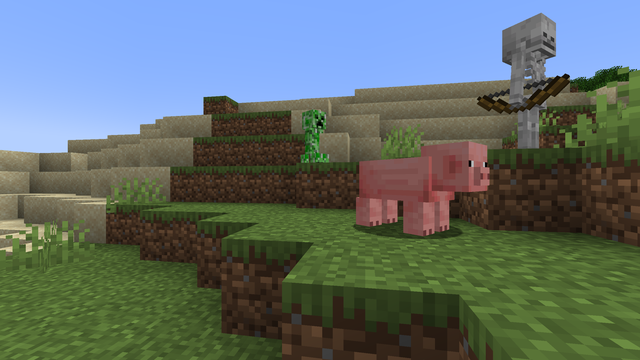cochons: (368, 154, 451, 235)
creepers: (301, 106, 324, 153)
squelettes: (497, 13, 565, 128)
